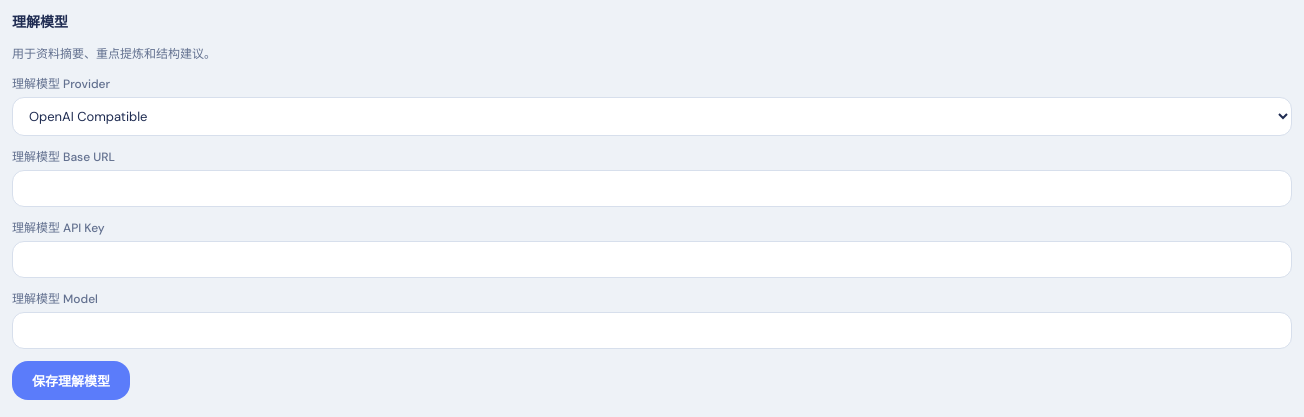
it: prefills OpenRouter base url when provider switches to openrouter
The width and height of the screenshot is (1304, 417).
Select "OpenRouter" in the dropdown labelled "理解模型 Provider" at coordinates (652, 116), box [12,97,1292,136]
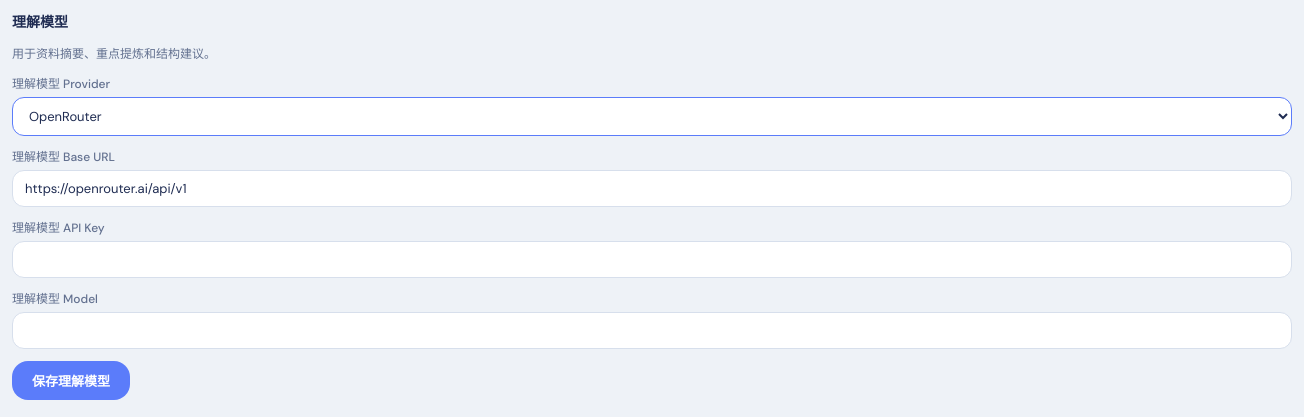
Expected: the field labelled "理解模型 Base URL" holds "https://openrouter.ai/api/v1", [12,170,1292,207]
